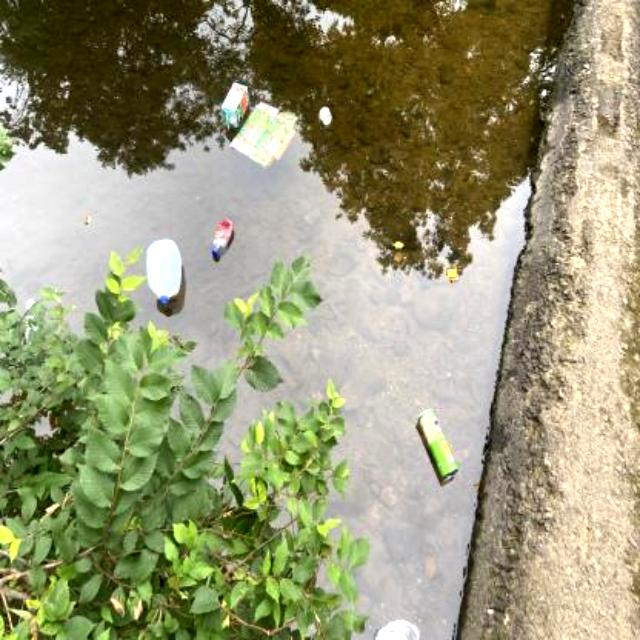Cardboard: (230, 92, 302, 176), (214, 72, 250, 136)
Metal: (410, 403, 466, 489), (365, 612, 429, 640)
Paper: (314, 97, 338, 129)
Plastic: (143, 231, 189, 321), (206, 212, 236, 266)
